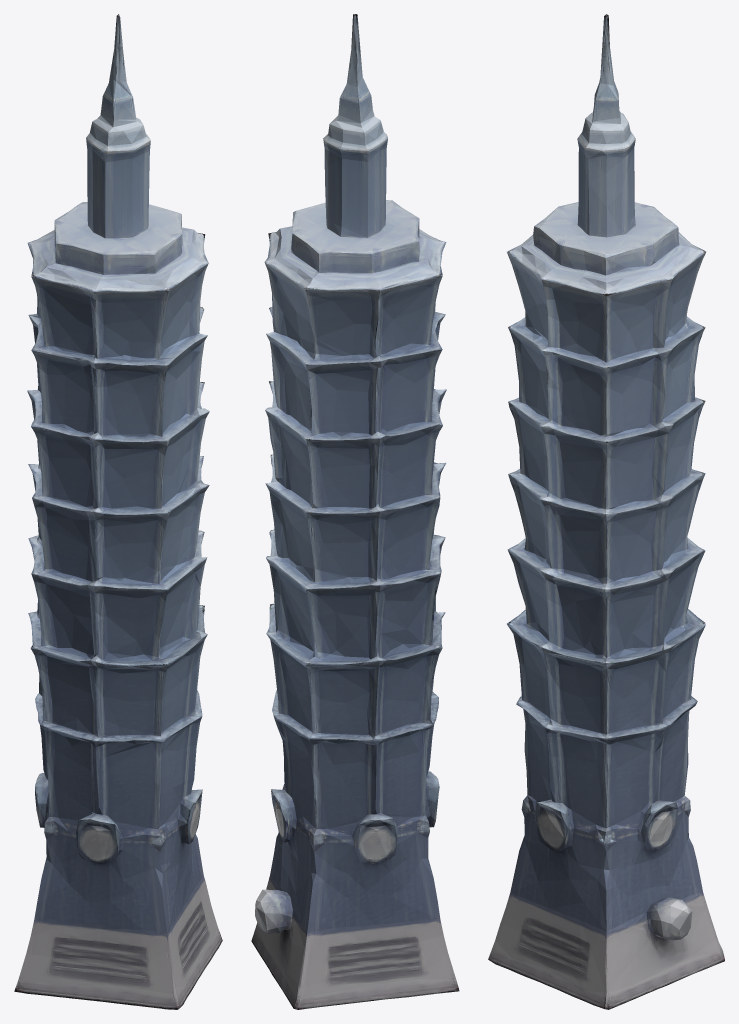
File: taiwan-Taipei101.glb
3 views of the same model, side by side, from view 1: azimuth 30°, elevation 25°; view 2: azimuth 150°, elevation 25°; view 3: azimuth 270°, elevation 25° (orthographic).
Visible parts, largest first — view 1: world; view 2: world; view 3: world.
Boxes of the visible parts, left/top/right/bottom form: world: left=14, top=14, right=222, bottom=1009; world: left=251, top=14, right=459, bottom=1009; world: left=488, top=14, right=724, bottom=1009.
Size of the model in its own units: 0.2285 by 1 by 0.2272.
Materials: 1 (1 with a texture image).
